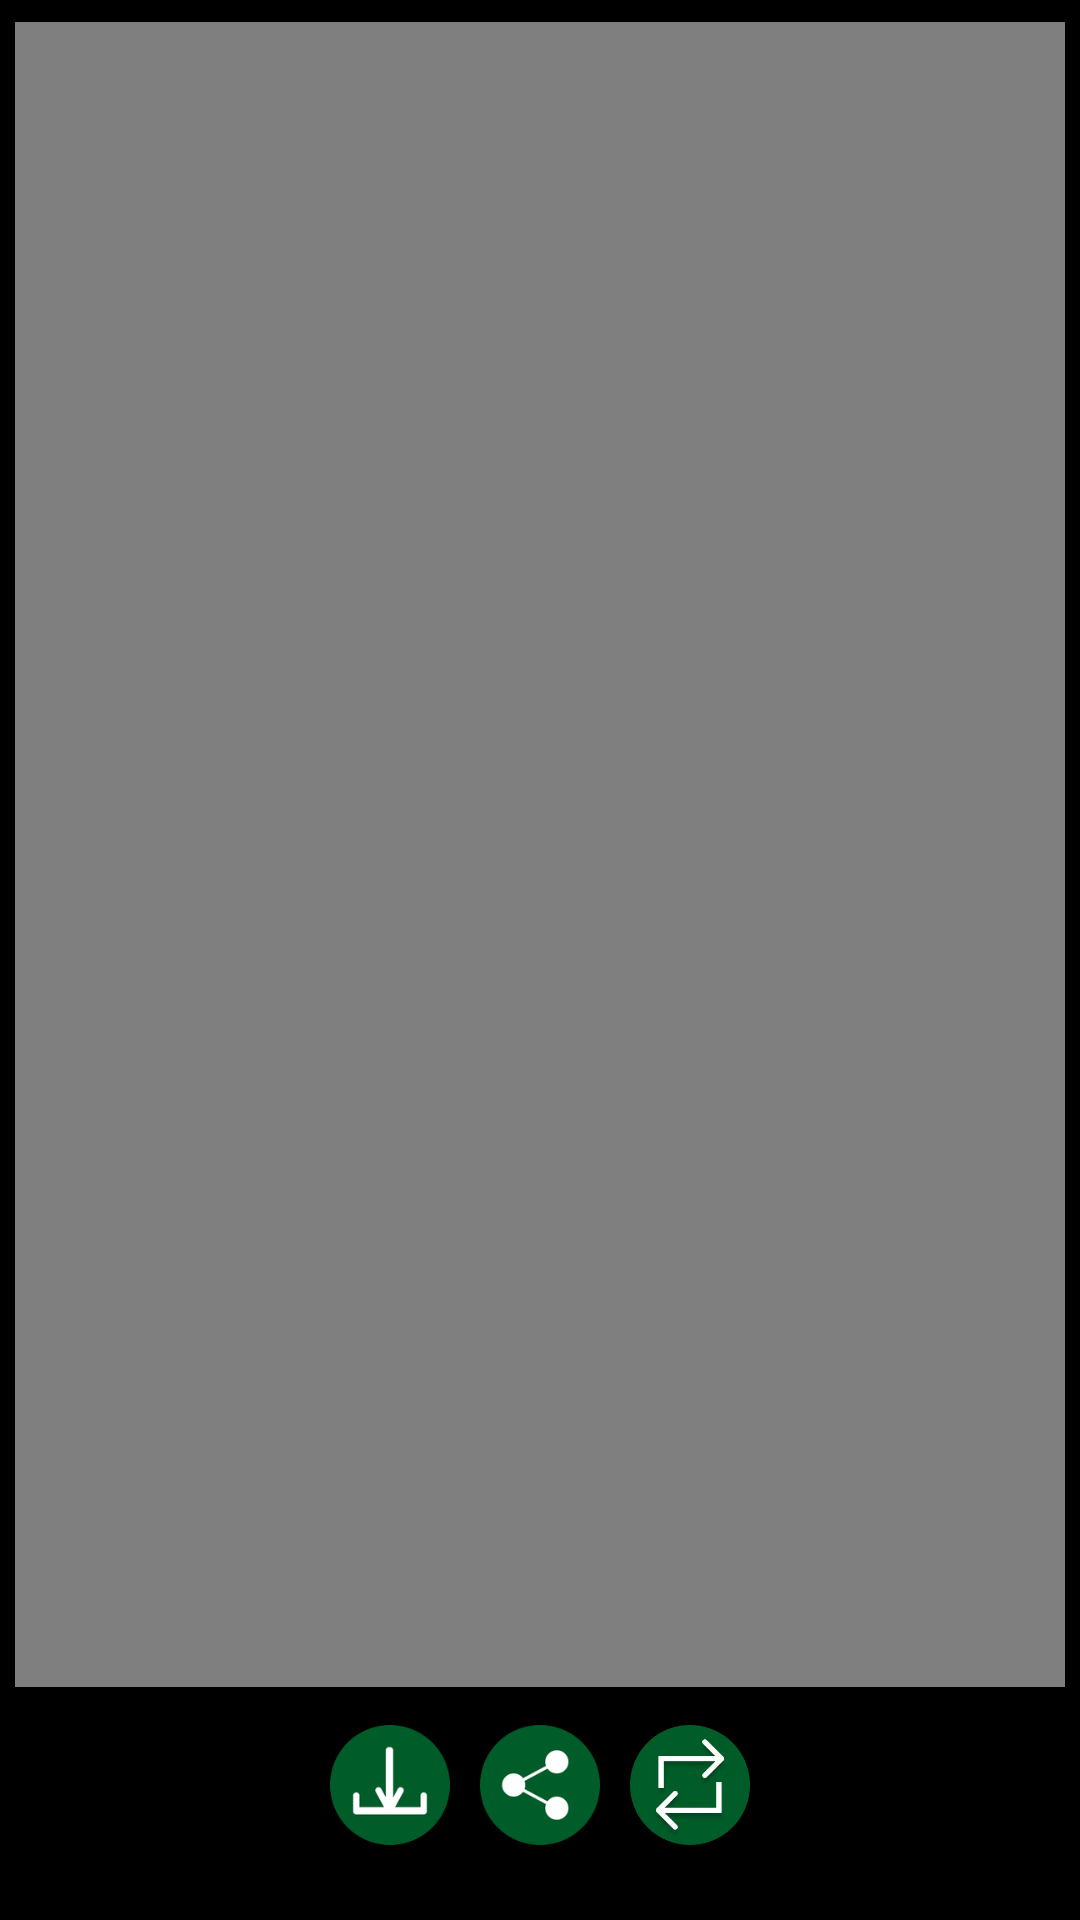

Icons on this 1080w x 1920h Android screen, each with its box as bbox=[x1, y1, x2, y2]:
download: bbox=[330, 1725, 450, 1845]
repost: bbox=[630, 1725, 750, 1845]
share: bbox=[480, 1725, 600, 1845]
